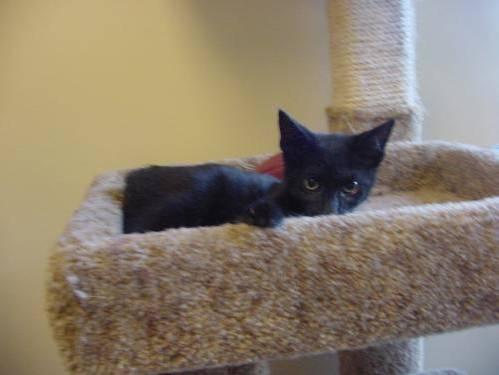cat: (120, 113, 394, 234)
